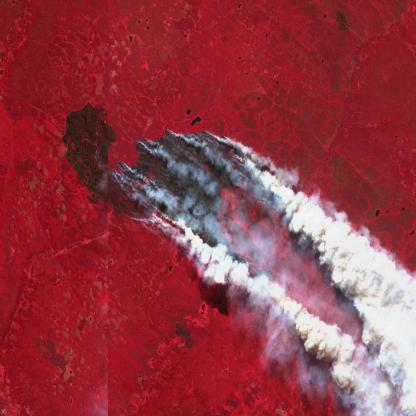fire: (106, 123, 314, 321)
